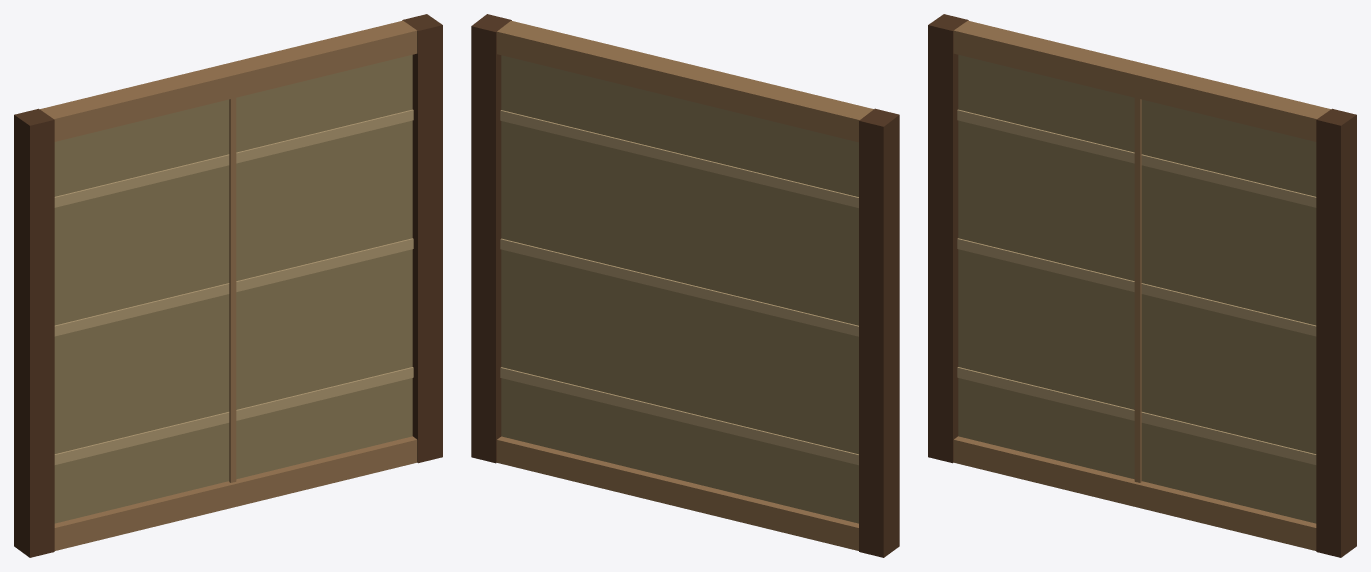
File: wall_lod1.glb
3 renders of one model, left to right at view 1: azimuth 30°, elevation 25°; view 2: azimuth 150°, elevation 25°; view 3: azimuth 330°, elevation 25°, orthographic.
Visible parts, largest first — view 1: wall_mesh; view 2: wall_mesh; view 3: wall_mesh.
Part boxes in pixels (x1,y1,x2,y2): wall_mesh: (14,14,442,557); wall_mesh: (471,14,899,557); wall_mesh: (928,14,1356,557).
Bounding box in the file's own units: 3 × 3 × 0.2.
